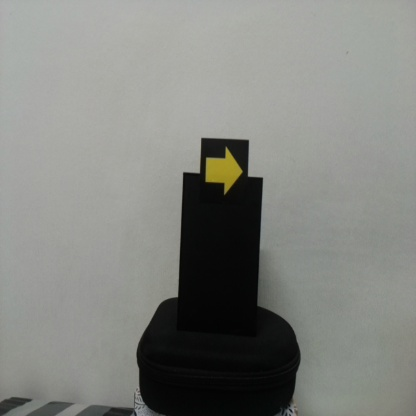id_3: (201, 140, 248, 207)
